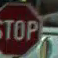Stop: (0, 0, 42, 55)
